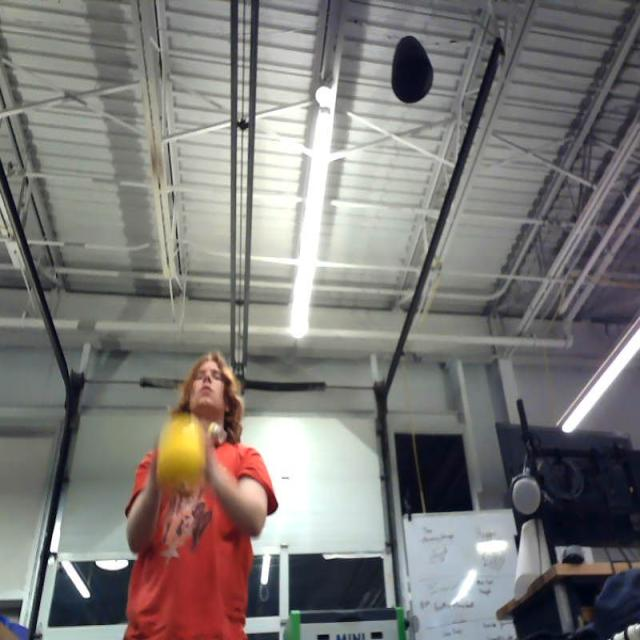Fuel: (158, 421, 207, 486)
